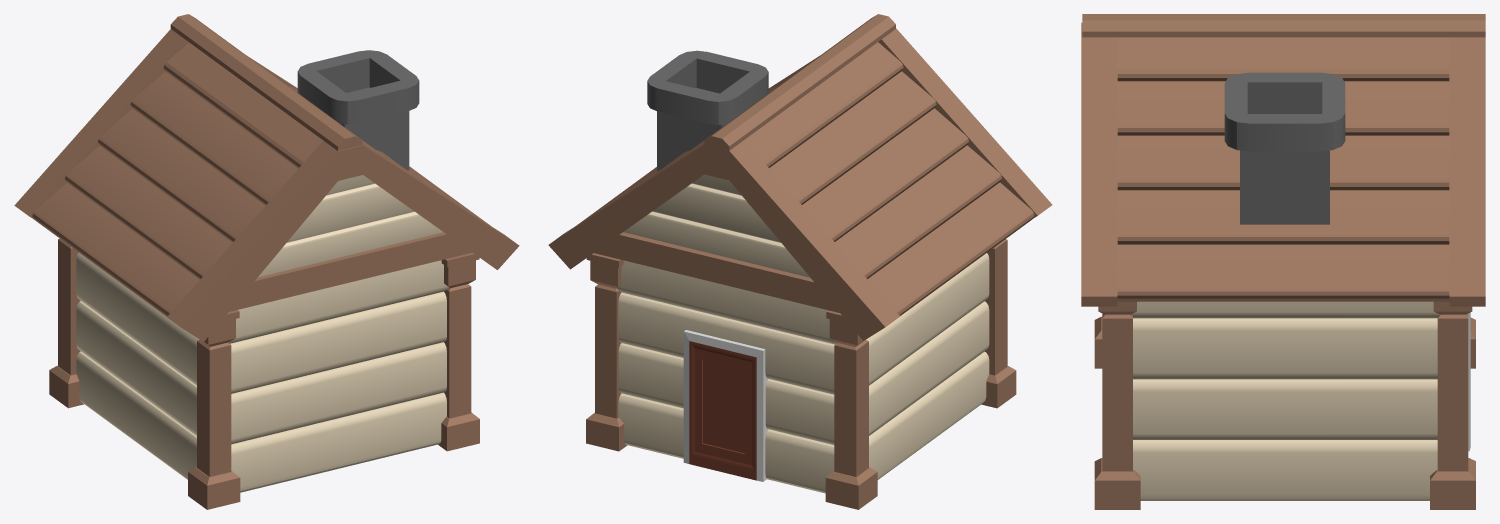
File: house.glb
3 views of the same model, side by side, from view 1: azimuth 30°, elevation 25°; view 2: azimuth 150°, elevation 25°; view 3: azimuth 270°, elevation 25° (orthographic). The views are drawn at different scales.
Parts seen in each view (by area): view 1: Roof; view 2: Roof; view 3: Roof.
Part boxes in pixels (x1=…): Roof: x1=14, y1=14, x2=519, y2=509; Roof: x1=548, y1=14, x2=1052, y2=509; Roof: x1=1081, y1=14, x2=1485, y2=509.
Size of the model in its own units: 7 by 6.78 by 6.01.
